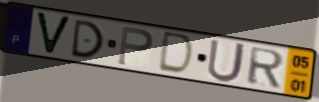D: (156, 30, 196, 77), (69, 18, 106, 60)
P: (116, 25, 155, 68)
R: (245, 46, 286, 90)
U: (205, 38, 249, 84)
V: (34, 10, 74, 57)
